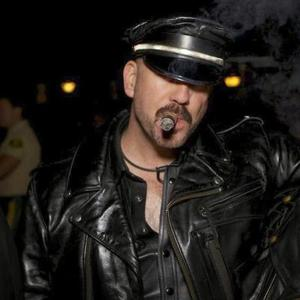cigarette: (160, 112, 177, 134)
